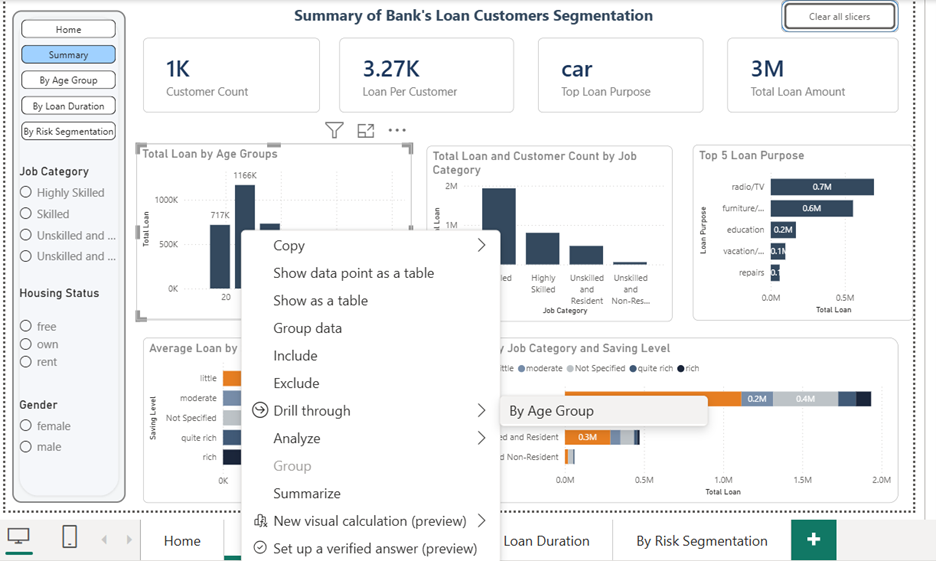

Layout of this report page (visuals, bound fields, positions):
{"tool":"powerbi","page":{"name":"Summary","canvas":[1280,720],"ordinal":1},"visuals":[{"type":"shape","box":[10.2,14.2,160.1,694.9],"z":0,"group":"g1"},{"type":"cardVisual","fields":{"Data":["Sum(german_credit_data.Credit amount)"]},"box":[1018.5,53.4,241.3,105.2],"z":0},{"type":"pageNavigator","box":[23.5,27.2,133.4,173.3],"z":1000,"group":"g1"},{"type":"clusteredBarChart","title":"Top 5 Loan Purpose","fields":{"Category":["german_credit_data.Loan Purpose"],"Y":["Sum(german_credit_data.Credit amount)"]},"box":[969.9,204,310.9,247.7],"z":1000},{"type":"cardVisual","fields":{"Data":["german_credit_data.Top Loan Purpose"]},"box":[751.3,53.4,233.2,105.2],"z":2000},{"type":"listSlicer","fields":{"Values":["german_credit_data.Housing Status"]},"box":[14.4,403.2,152.5,148.4],"z":2000,"group":"g1"},{"type":"columnChart","fields":{"Category":["german_credit_data.Job Category"],"Y":["Sum(german_credit_data.Credit amount)"]},"box":[594.3,205.6,346.5,247.7],"z":3000},{"type":"listSlicer","fields":{"Values":["german_credit_data.Gender"]},"box":[14.4,559.7,154.4,134.1],"z":3000,"group":"g1"},{"type":"cardVisual","fields":{"Data":["german_credit_data.Customer Count"]},"box":[194.3,53.4,249.4,105.2],"z":4000},{"type":"listSlicer","fields":{"Values":["german_credit_data.Job Category"]},"box":[14.4,230.5,156.3,187],"z":4000,"group":"g1"},{"type":"textbox","box":[249.5,0,822.1,52.9],"z":5000},{"type":"cardVisual","fields":{"Data":["german_credit_data.Loan Per Customer"]},"box":[471.2,53.4,246.1,105.2],"z":6000},{"type":"barChart","fields":{"Category":["german_credit_data.Saving Level"],"Y":["Avg(german_credit_data.Credit amount)"]},"box":[195,475.4,377.9,233.7],"z":7000},{"type":"barChart","title":"Total Loan by Job Category and Saving Level","fields":{"Category":["german_credit_data.Job Category"],"Y":["Sum(german_credit_data.Credit amount)"],"Series":["german_credit_data.Saving Level"]},"box":[594.3,476.1,665.5,233.2],"z":8000},{"type":"columnChart","fields":{"Y":["Sum(german_credit_data.Credit amount)"],"Category":["german_credit_data.Age (bins)"]},"box":[184.9,203.2,388.1,247.9],"z":9000},{"type":"group","id":"g1","title":"Group 1","box":[10.2,14.2,160.5,694.9],"z":9001},{"type":"shape","box":[1094.6,0,165.2,45.3],"z":9002},{"type":"actionButton","box":[1094.6,0,165.2,45.3],"z":9003}]}

Visuals, with their boxes on the page's 1280x720 design canvas (x1, y1, x2, y2). These are canvas units, not pixel positions in the 936x561 screenshot, which may show the page scaled, cropped or inside an application window:
shape: left=10, top=14, right=170, bottom=709
cardVisual - Sum(german_credit_data.Credit amount): left=1018, top=53, right=1260, bottom=159
pageNavigator: left=24, top=27, right=157, bottom=200
"Top 5 Loan Purpose" clusteredBarChart: left=970, top=204, right=1281, bottom=452
cardVisual - german_credit_data.Top Loan Purpose: left=751, top=53, right=984, bottom=159
listSlicer - german_credit_data.Housing Status: left=14, top=403, right=167, bottom=552
columnChart - german_credit_data.Job Category x Sum(german_credit_data.Credit amount): left=594, top=206, right=941, bottom=453
listSlicer - german_credit_data.Gender: left=14, top=560, right=169, bottom=694
cardVisual - german_credit_data.Customer Count: left=194, top=53, right=444, bottom=159
listSlicer - german_credit_data.Job Category: left=14, top=230, right=171, bottom=418
textbox: left=250, top=0, right=1072, bottom=53
cardVisual - german_credit_data.Loan Per Customer: left=471, top=53, right=717, bottom=159
barChart - german_credit_data.Saving Level x Avg(german_credit_data.Credit amount): left=195, top=475, right=573, bottom=709
"Total Loan by Job Category and Saving Level" barChart: left=594, top=476, right=1260, bottom=709
columnChart - Sum(german_credit_data.Credit amount) x german_credit_data.Age (bins): left=185, top=203, right=573, bottom=451
"Group 1" group: left=10, top=14, right=171, bottom=709
shape: left=1095, top=0, right=1260, bottom=45
actionButton: left=1095, top=0, right=1260, bottom=45
